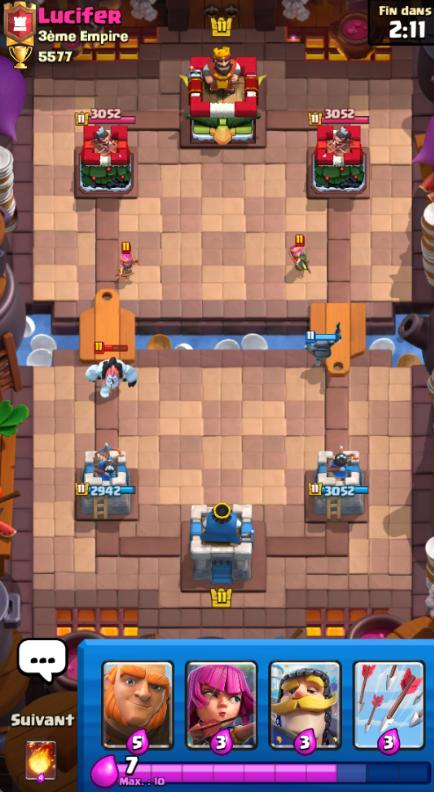archere: (291, 244, 312, 273), (119, 251, 136, 278)
mini_PEKKA: (305, 321, 342, 366)
